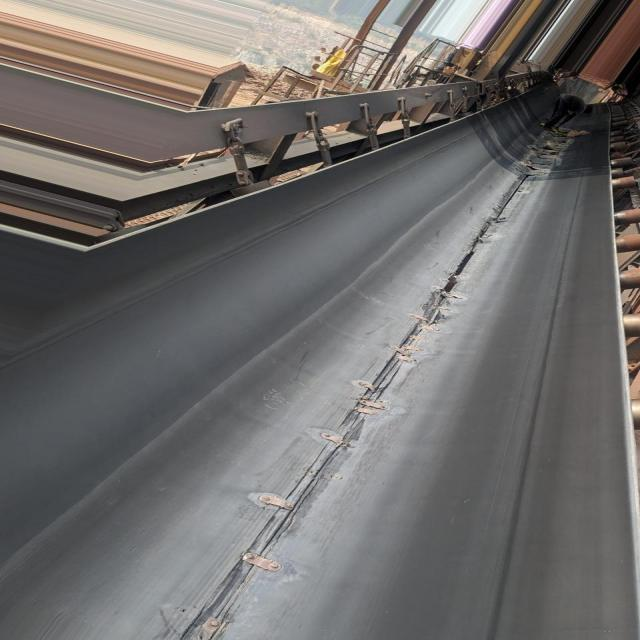Human: (547, 90, 589, 122)
Roller: (619, 122, 640, 409)
Tear: (367, 180, 537, 378)
patch work: (174, 384, 407, 635), (497, 123, 571, 177)
